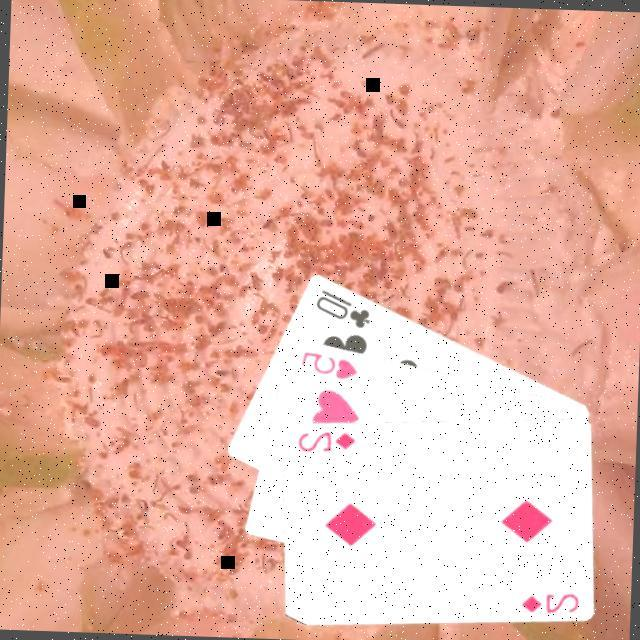10C: (310, 283, 373, 329)
2D: (516, 586, 581, 614), (293, 424, 357, 452)
5H: (295, 345, 360, 380)
